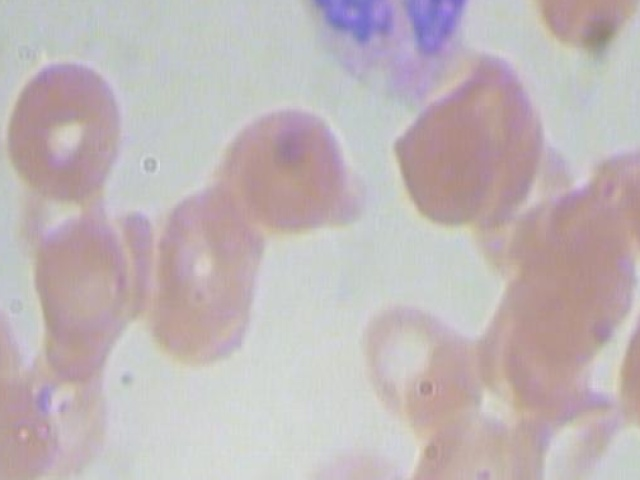RBC: (142, 173, 261, 376), (221, 85, 354, 253), (499, 201, 632, 369), (0, 49, 130, 217), (362, 277, 484, 437), (23, 200, 145, 359), (381, 89, 503, 248), (391, 396, 543, 480), (512, 384, 633, 480), (0, 361, 67, 480), (515, 0, 640, 63), (283, 429, 418, 480), (608, 280, 640, 478), (618, 127, 640, 277), (0, 255, 17, 413)
WBC: (278, 0, 484, 107)
